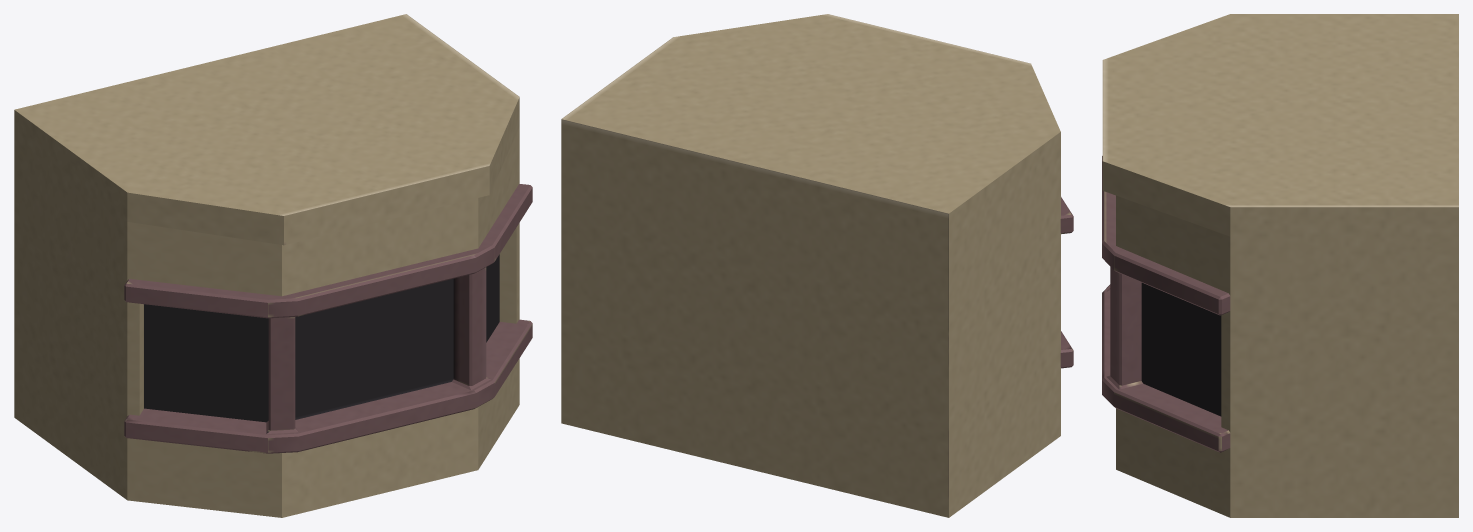
Rendered from house_window_forward_LOD0.fbx.
3 views of the same model, side by side, from view 1: azimuth 30°, elevation 25°; view 2: azimuth 150°, elevation 25°; view 3: azimuth 270°, elevation 25° (orthographic). The views are drawn at different scales.
Visible parts, largest first — view 1: house_window_forward_LOD0; view 2: house_window_forward_LOD0; view 3: house_window_forward_LOD0.
Part boxes in pixels (x1,y1,x2,y2): house_window_forward_LOD0: [14, 14, 532, 517]; house_window_forward_LOD0: [561, 14, 1073, 517]; house_window_forward_LOD0: [1102, 14, 1458, 517].
Size of the model in its own units: 415 by 300 by 312.
